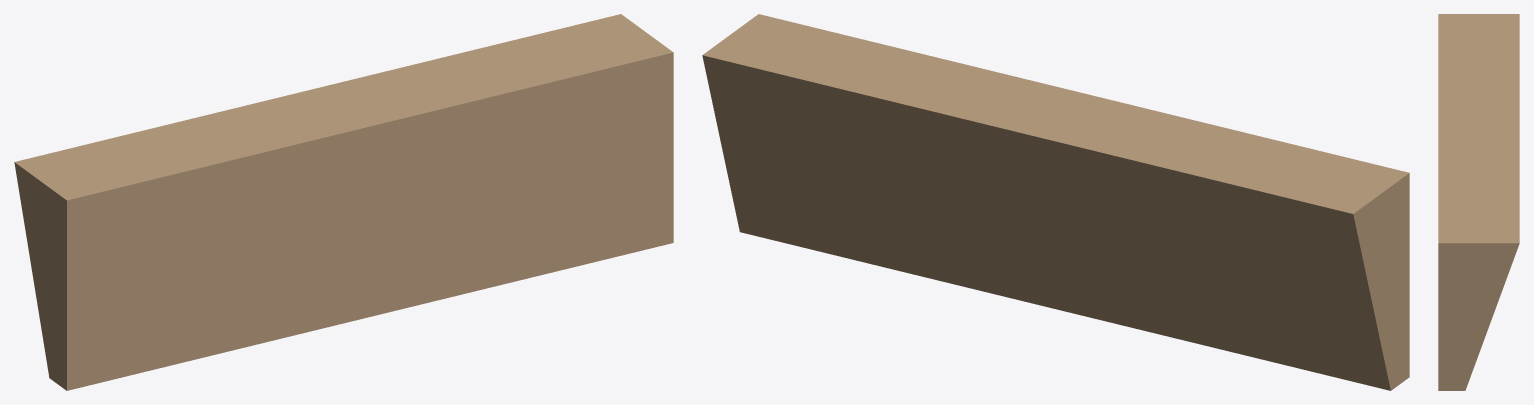
Rendered from mod_cornice.glb.
3 views of the same model, side by side, from view 1: azimuth 30°, elevation 25°; view 2: azimuth 150°, elevation 25°; view 3: azimuth 270°, elevation 25° (orthographic). The views are drawn at different scales.
Visible parts, largest first — view 1: cornice; view 2: cornice; view 3: cornice.
Part boxes in pixels (box(x1,y1,x2,y2)): cornice: box(14, 14, 673, 390); cornice: box(702, 14, 1409, 390); cornice: box(1438, 14, 1519, 390).
Size of the model in its own units: 1 by 0.3 by 0.15.
